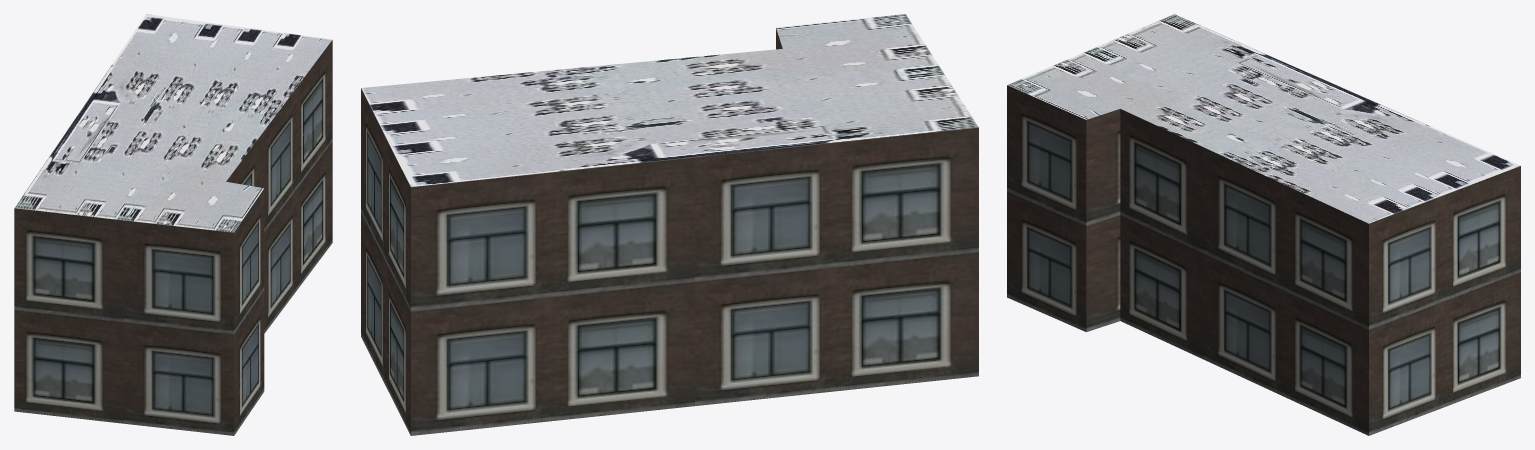
The model's file is ResTex__2514.fbx.
The picture shows the model from 3 angles, left to right: view 1: azimuth 30°, elevation 25°; view 2: azimuth 150°, elevation 25°; view 3: azimuth 270°, elevation 25°; orthographic projection. The views are drawn at different scales.
Parts seen in each view (by area): view 1: CityEngineMaterial_16_m, CityEngineMaterial_15_m; view 2: CityEngineMaterial_16_m, CityEngineMaterial_15_m; view 3: CityEngineMaterial_16_m, CityEngineMaterial_15_m.
Part boxes in pixels (x1=…): CityEngineMaterial_16_m: x1=14, y1=40, x2=332, y2=435; CityEngineMaterial_15_m: x1=14, y1=14, x2=331, y2=232; CityEngineMaterial_16_m: x1=361, y1=28, x2=978, y2=435; CityEngineMaterial_15_m: x1=361, y1=14, x2=978, y2=186; CityEngineMaterial_16_m: x1=1007, y1=85, x2=1520, y2=435; CityEngineMaterial_15_m: x1=1007, y1=14, x2=1520, y2=223.
Size of the model in its own units: 12.71 by 6 by 13.16.
Materials: 2 (2 with a texture image).
